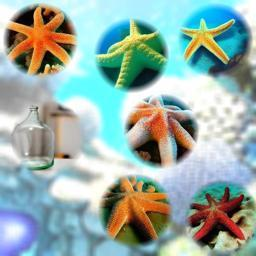not an animal: (8, 104, 58, 170)
